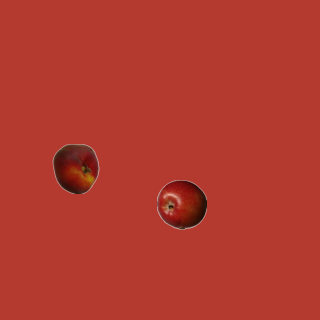Apple Braeburn: (156, 179, 206, 229)
Nectarine Flat: (50, 143, 100, 193)
